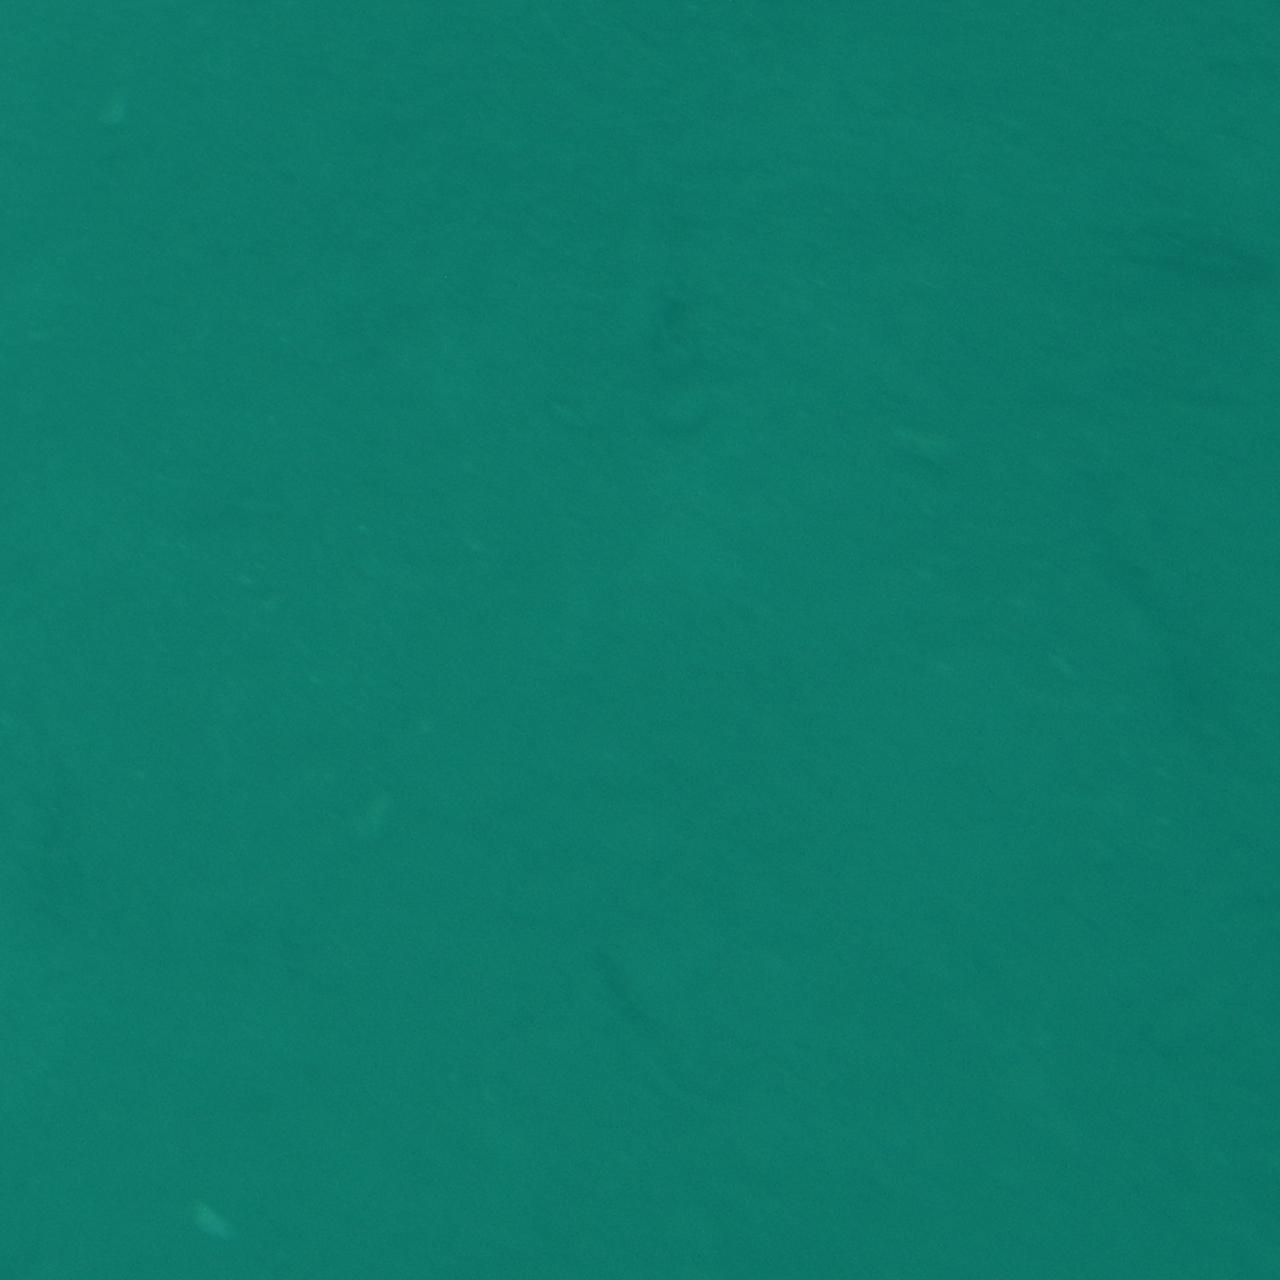Holothuria tubulosa: (567, 919, 713, 1076)
